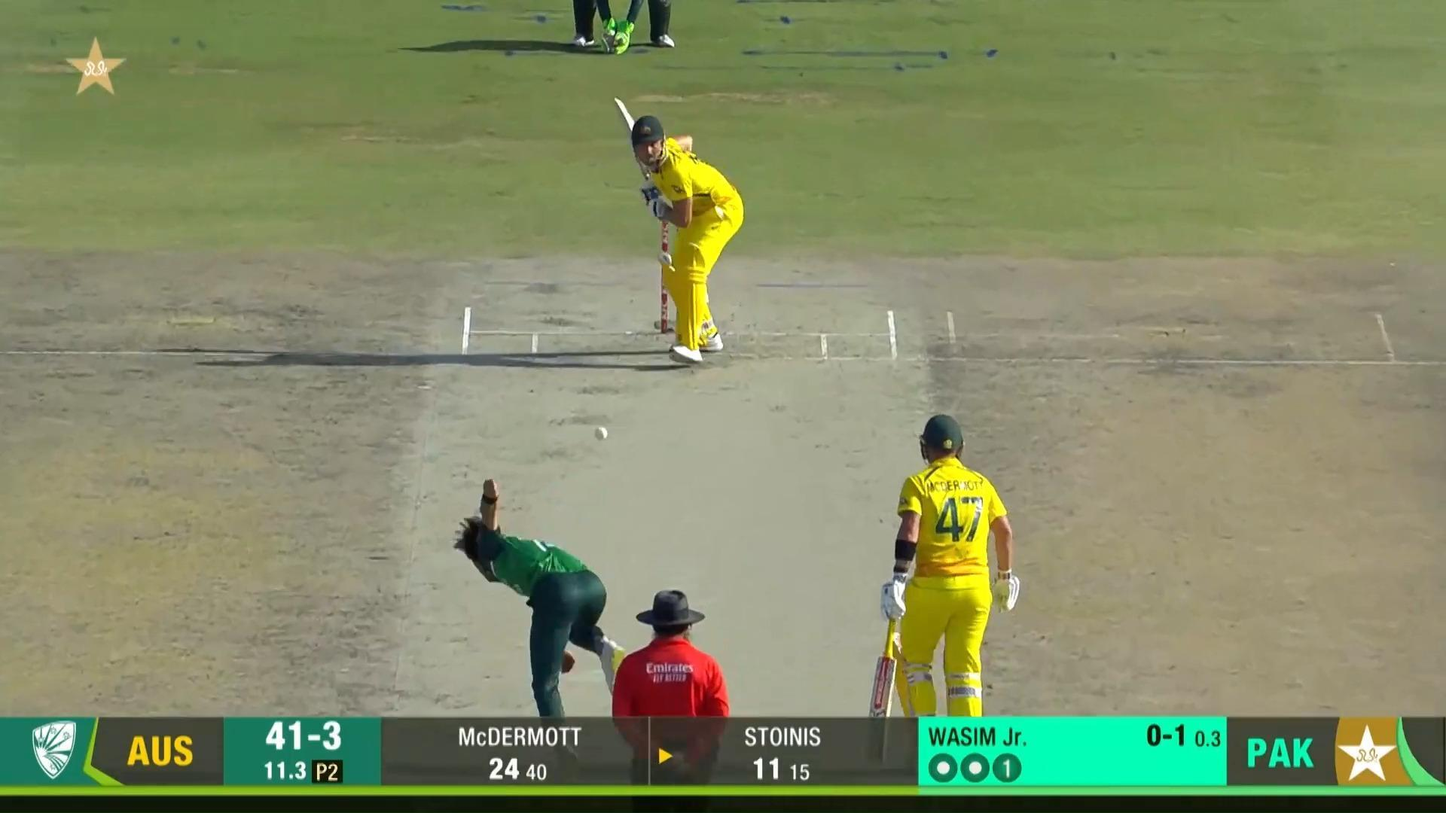BM 1: (611, 91, 746, 365)
BO: (452, 477, 628, 717)
